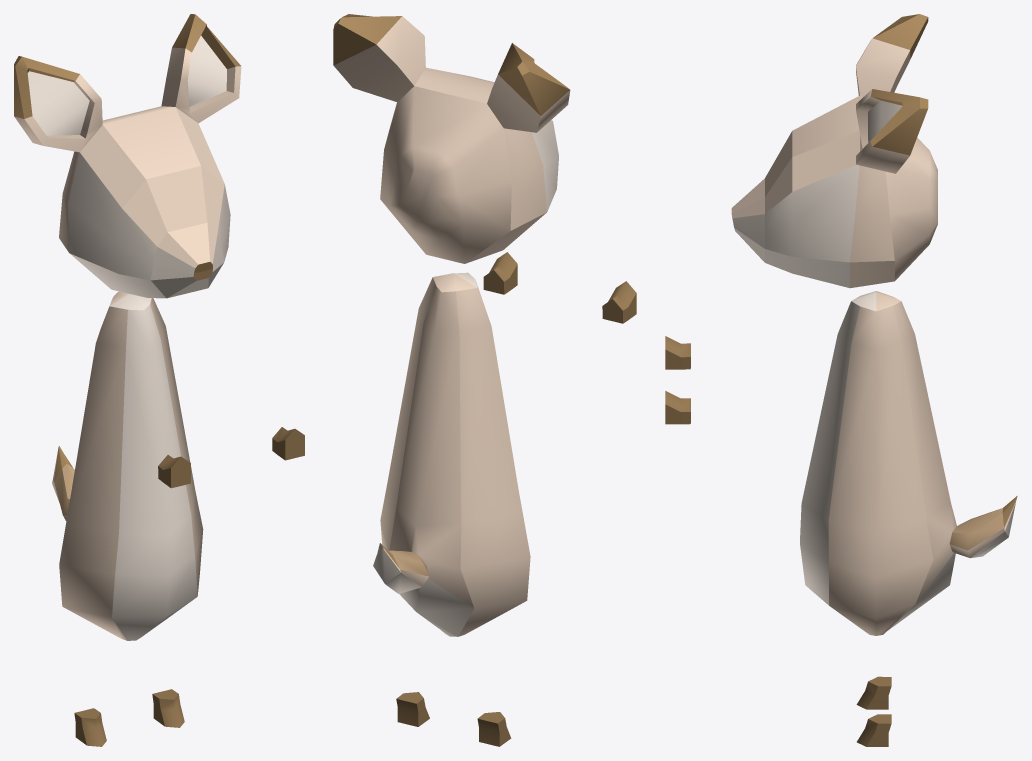
File: Deer_Avatar2.fbx
3 views of the same model, side by side, from view 1: azimuth 30°, elevation 25°; view 2: azimuth 150°, elevation 25°; view 3: azimuth 270°, elevation 25° (orthographic). The views are drawn at different scales.
Parts seen in each view (by area): view 1: Deer_Head, Deer_Body, R_Foot, L_Foot, R_Hand, L_Hand; view 2: Deer_Body, Deer_Head, R_Hand, L_Hand, L_Foot, R_Foot; view 3: Deer_Body, Deer_Head, R_Foot, L_Foot, L_Hand, R_Hand.
Boxes of the visible parts, x1,y1,x2,y2 form: Deer_Head: (14,14,241,298); Deer_Body: (52,291,203,640); R_Foot: (74,708,106,746); L_Foot: (152,689,184,727); R_Hand: (158,455,190,488); L_Hand: (272,427,304,460); Deer_Body: (373,272,530,636); Deer_Head: (333,14,570,263); R_Hand: (602,281,636,323); L_Hand: (483,252,517,294); L_Foot: (396,692,429,726); R_Foot: (477,712,511,746); Deer_Body: (800,291,1017,635); Deer_Head: (731,14,937,288); R_Foot: (856,676,891,709); L_Foot: (857,714,891,746); L_Hand: (665,391,690,424); R_Hand: (665,336,690,369).
Bounding box in the file's own units: 12.02 × 35.89 × 17.16.
